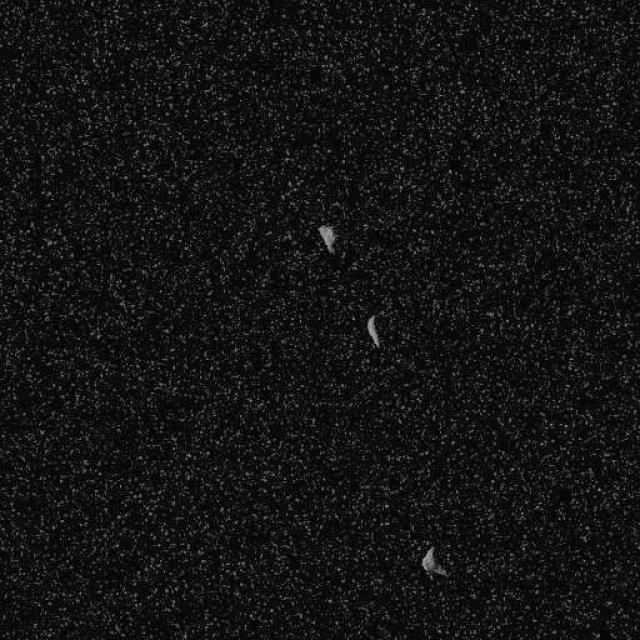D2: (420, 545, 448, 577), (316, 222, 338, 254), (365, 312, 380, 348)
